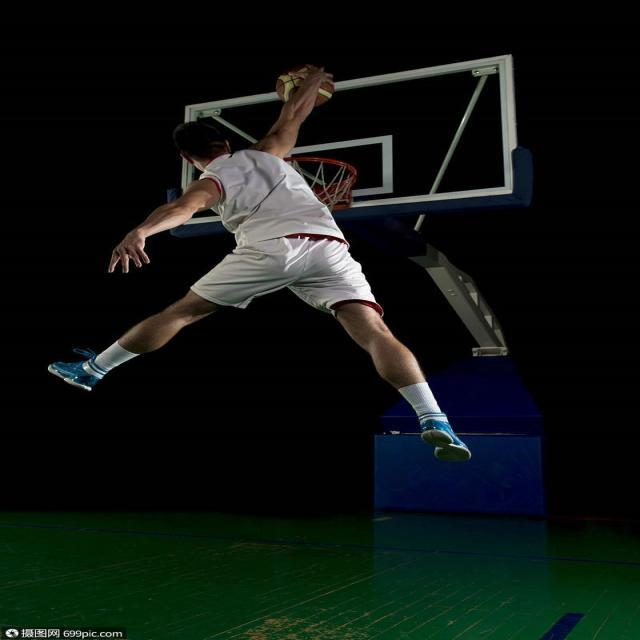rim: (278, 72, 328, 105)
